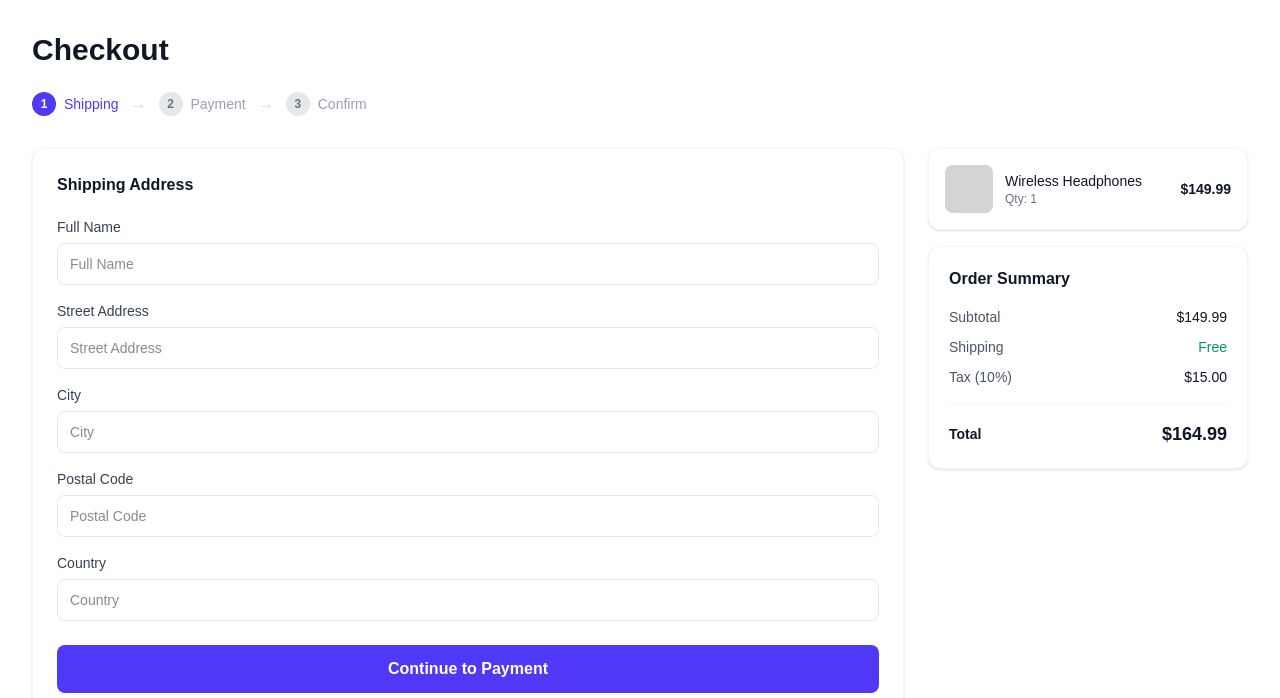
Test: CheckoutPage › shows validation error when shipping fields are empty
Click the button "Continue to Payment": [468, 669] box [57, 645, 879, 693]
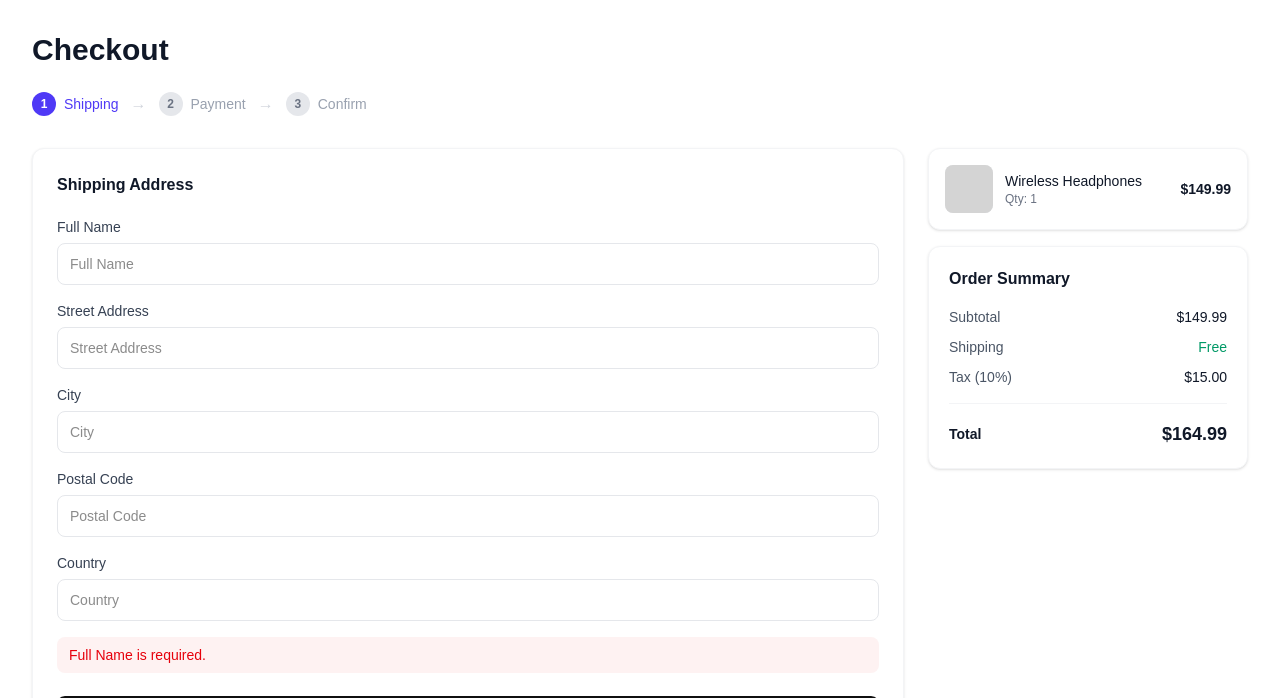
Expected: the text "Full Name is required." is shown, [57, 637, 879, 673]
